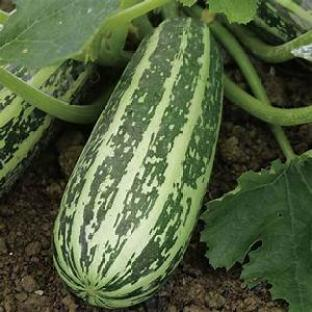Zucchini: (54, 19, 222, 307), (0, 86, 53, 195)
